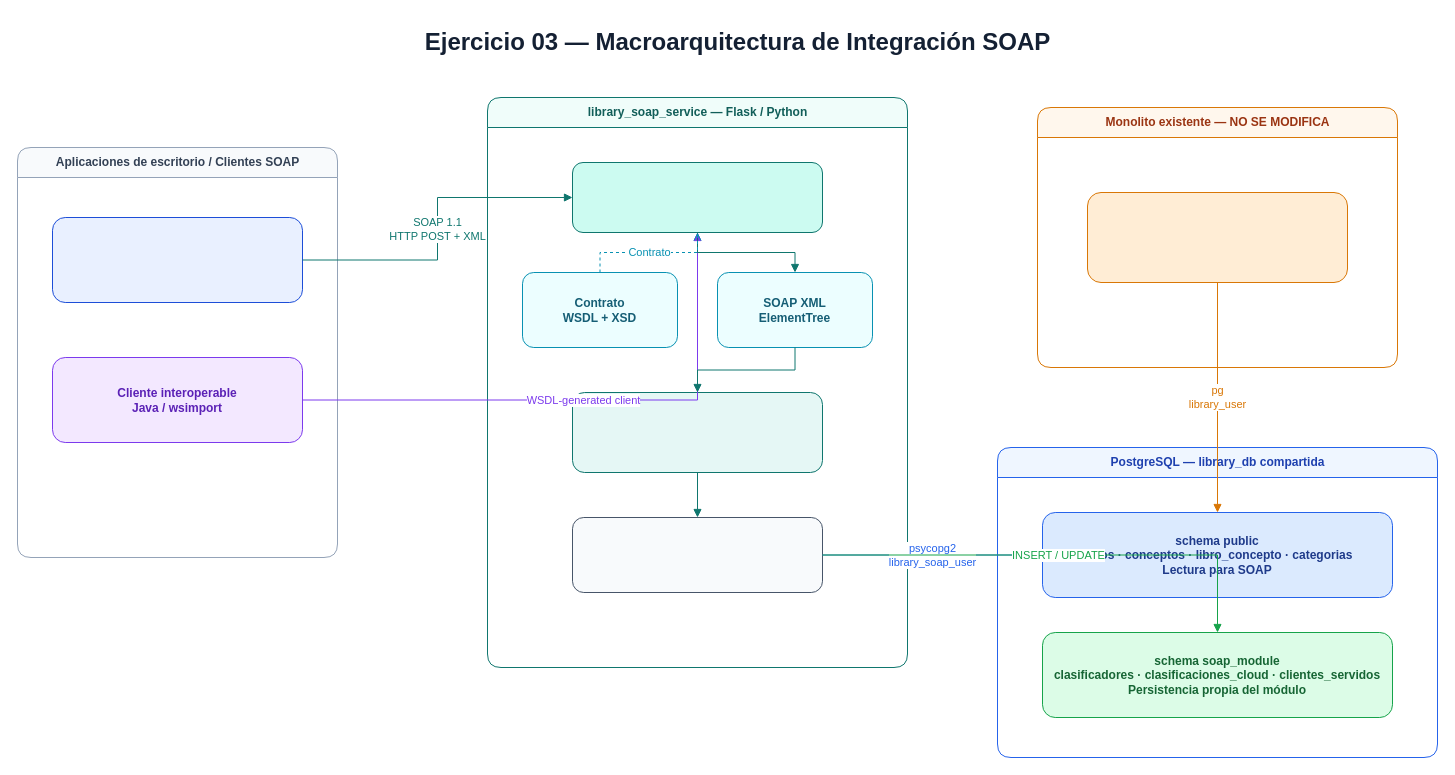
This 1455x775 diagram has some shape labels left out. The centre of each missing label's shape, as x and y in pixels:
"Cliente manual SOAP Python GUI" goes at [177,259].
"Data Access Layer psycopg2 + SQL parametrizado" goes at [697,554].
"HTTP POST /soap Flask endpoint" goes at [697,197].
"Node.js + Express + EJS web-monolito01/backend-node" goes at [1217,237].
"Service Layer validación + negocio + Faults" goes at [697,432].
